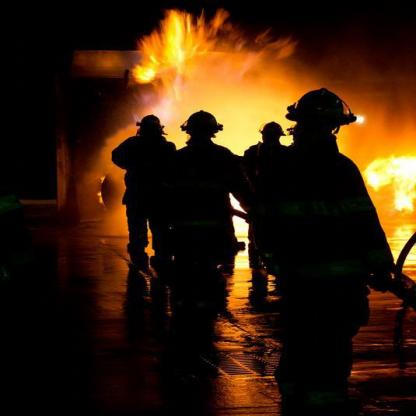fire: (124, 10, 290, 125), (366, 142, 414, 212)
